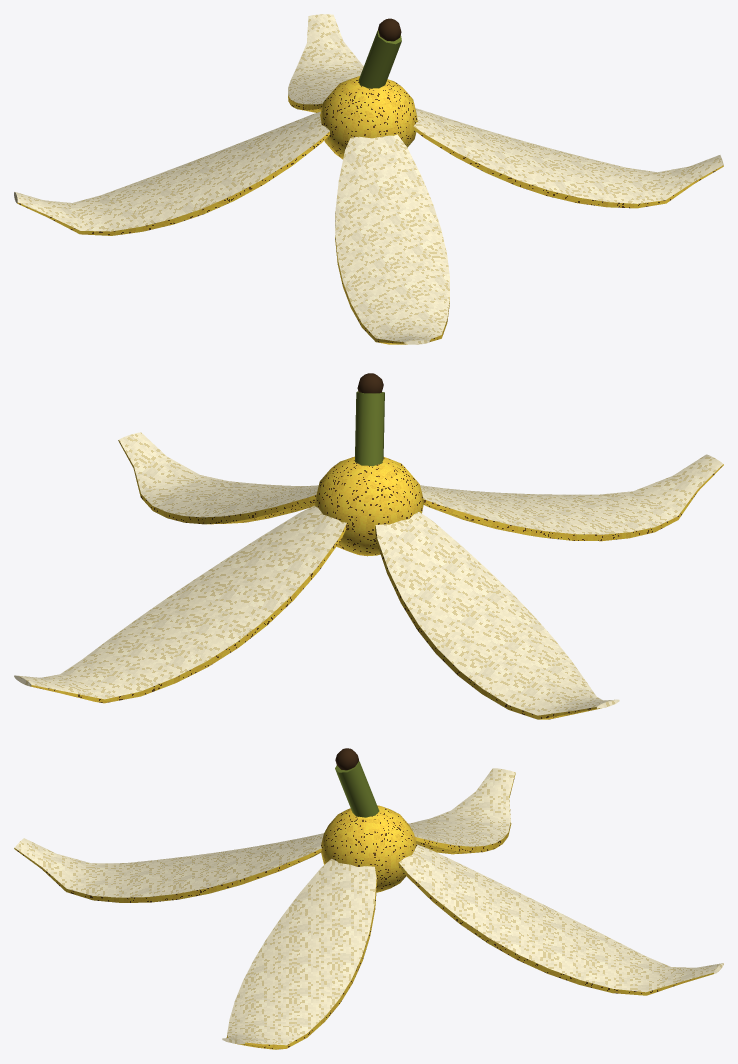
File: pj_peel.glb
3 renders of one model, top to bottom at view 1: azimuth 30°, elevation 25°; view 2: azimuth 150°, elevation 25°; view 3: azimuth 270°, elevation 25°, orthographic. The views are drawn at different scales.
Parts seen in each view (by area): view 1: ppeel_wzB; view 2: ppeel_wzB; view 3: ppeel_wzB.
Part boxes in pixels (<box>): ppeel_wzB: <box>14,14,723,344</box>; ppeel_wzB: <box>14,373,723,719</box>; ppeel_wzB: <box>14,748,723,1049</box>.
Bounding box in the file's own units: 0.5989 × 0.1938 × 0.6541.
Materials: 4 (2 with a texture image).
